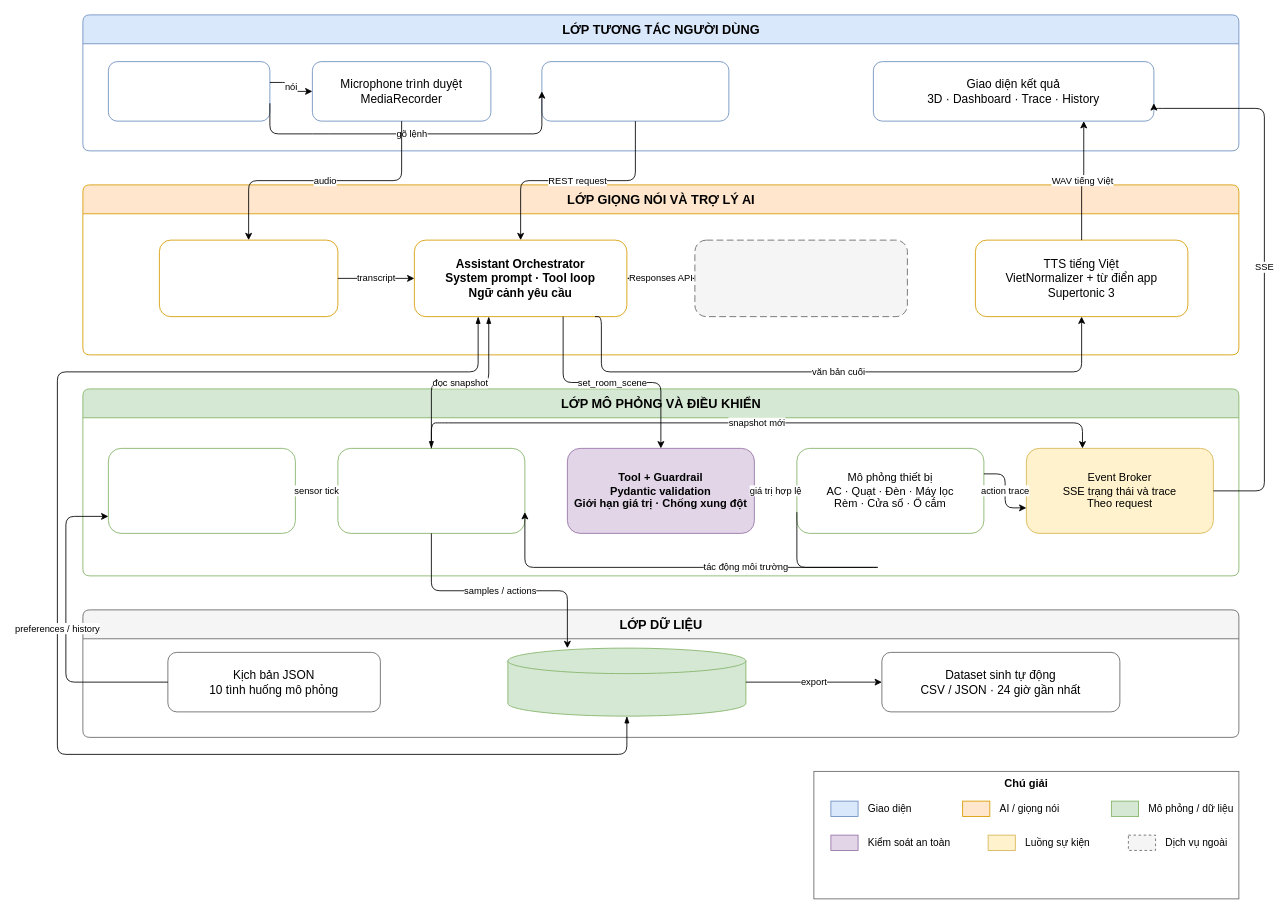
This 1288x914 diagram has some shape labels left out. The shapes that lost their labels are listed below. From the top down, each one's centre as x and y in pixels, then its label:
At (x=189, y=91): "Người dùng Yêu cầu tiếng Việt".
At (x=635, y=91): "Website Next.js Text / REST".
At (x=248, y=278): "ASR tiếng Việt faster-whisper large-v3-turbo".
At (x=800, y=278): "LLM bên ngoài OpenAI-compatible Responses API".
At (x=201, y=490): "Mô phỏng sensor Nhiệt độ · Độ ẩm · CO₂ PM2.5 · Lux · dB · Hiện diện".
At (x=431, y=490): "RoomSnapshot Trạng thái căn hộ duy nhất Context xác định theo dữ liệu".
At (x=626, y=681): "SQLite Samples · Actions · Conversations Trace · Preferences · Evidence".
